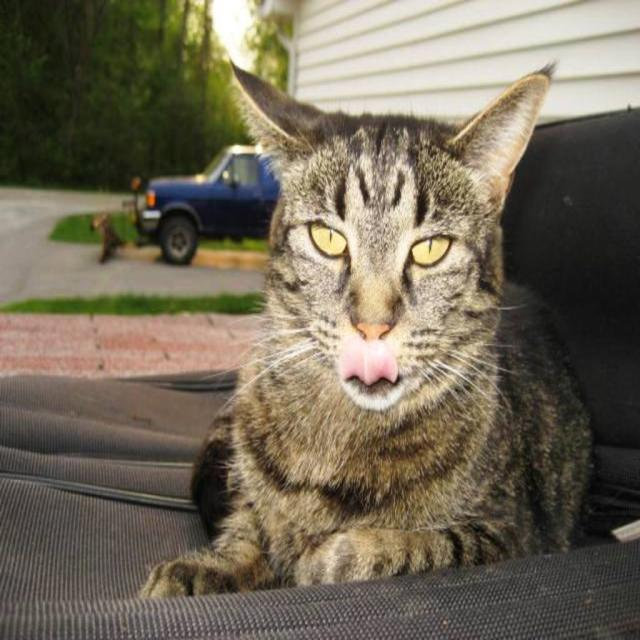Cat: (138, 47, 593, 596)
